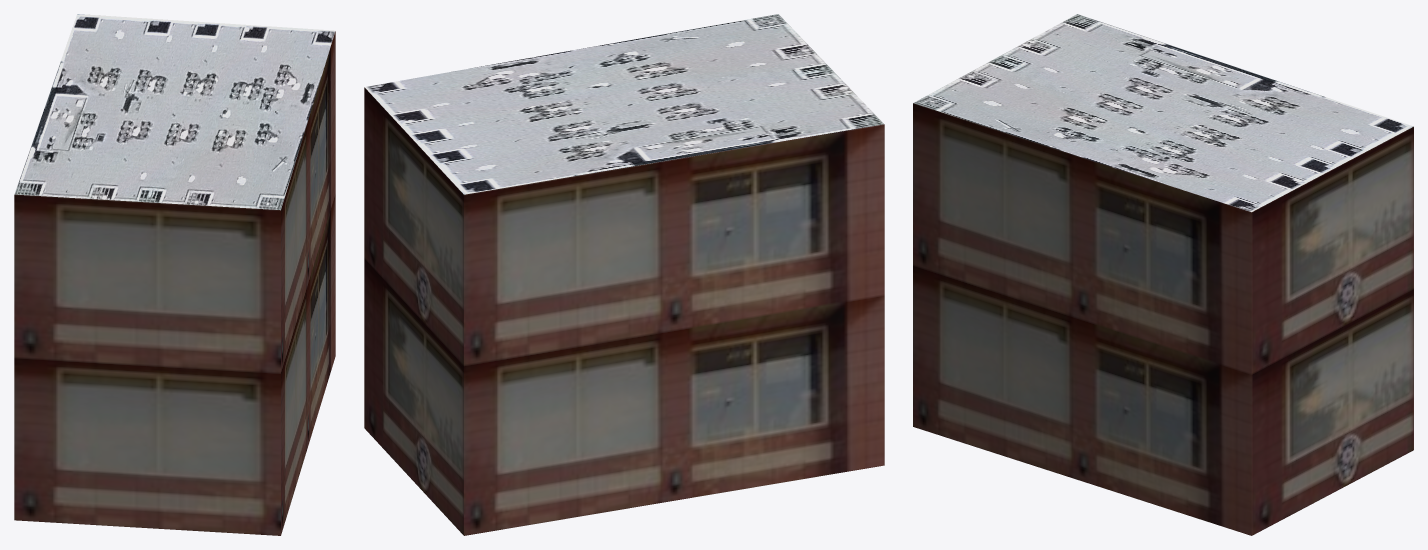
The model's file is ResTex__144.fbx.
The picture shows the model from 3 angles, left to right: view 1: azimuth 30°, elevation 25°; view 2: azimuth 150°, elevation 25°; view 3: azimuth 270°, elevation 25°; orthographic projection. The views are drawn at different scales.
Parts seen in each view (by area): view 1: CityEngineMaterial_13_m, CityEngineMaterial_m; view 2: CityEngineMaterial_13_m, CityEngineMaterial_m; view 3: CityEngineMaterial_13_m, CityEngineMaterial_m.
Boxes of the visible parts, x1,y1,x2,y2 form: CityEngineMaterial_13_m: (14,31,335,535); CityEngineMaterial_m: (14,14,335,210); CityEngineMaterial_13_m: (364,87,884,535); CityEngineMaterial_m: (364,14,883,194); CityEngineMaterial_13_m: (913,103,1413,535); CityEngineMaterial_m: (913,14,1413,212).
Bounding box in the file's own units: 7.88 × 6 × 8.41.
Materials: 2 (2 with a texture image).
